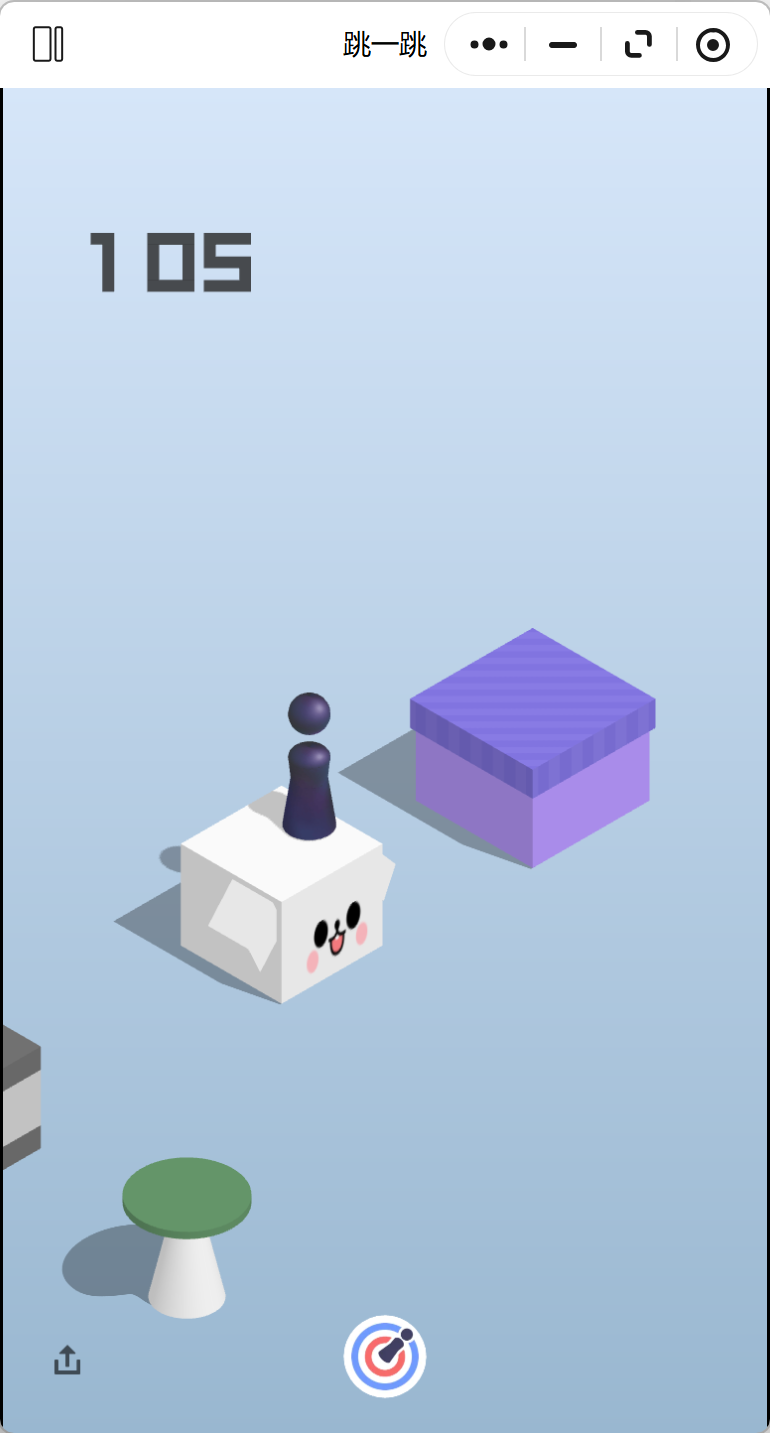piece: (284, 690, 339, 847)
platform: (408, 624, 653, 877)
